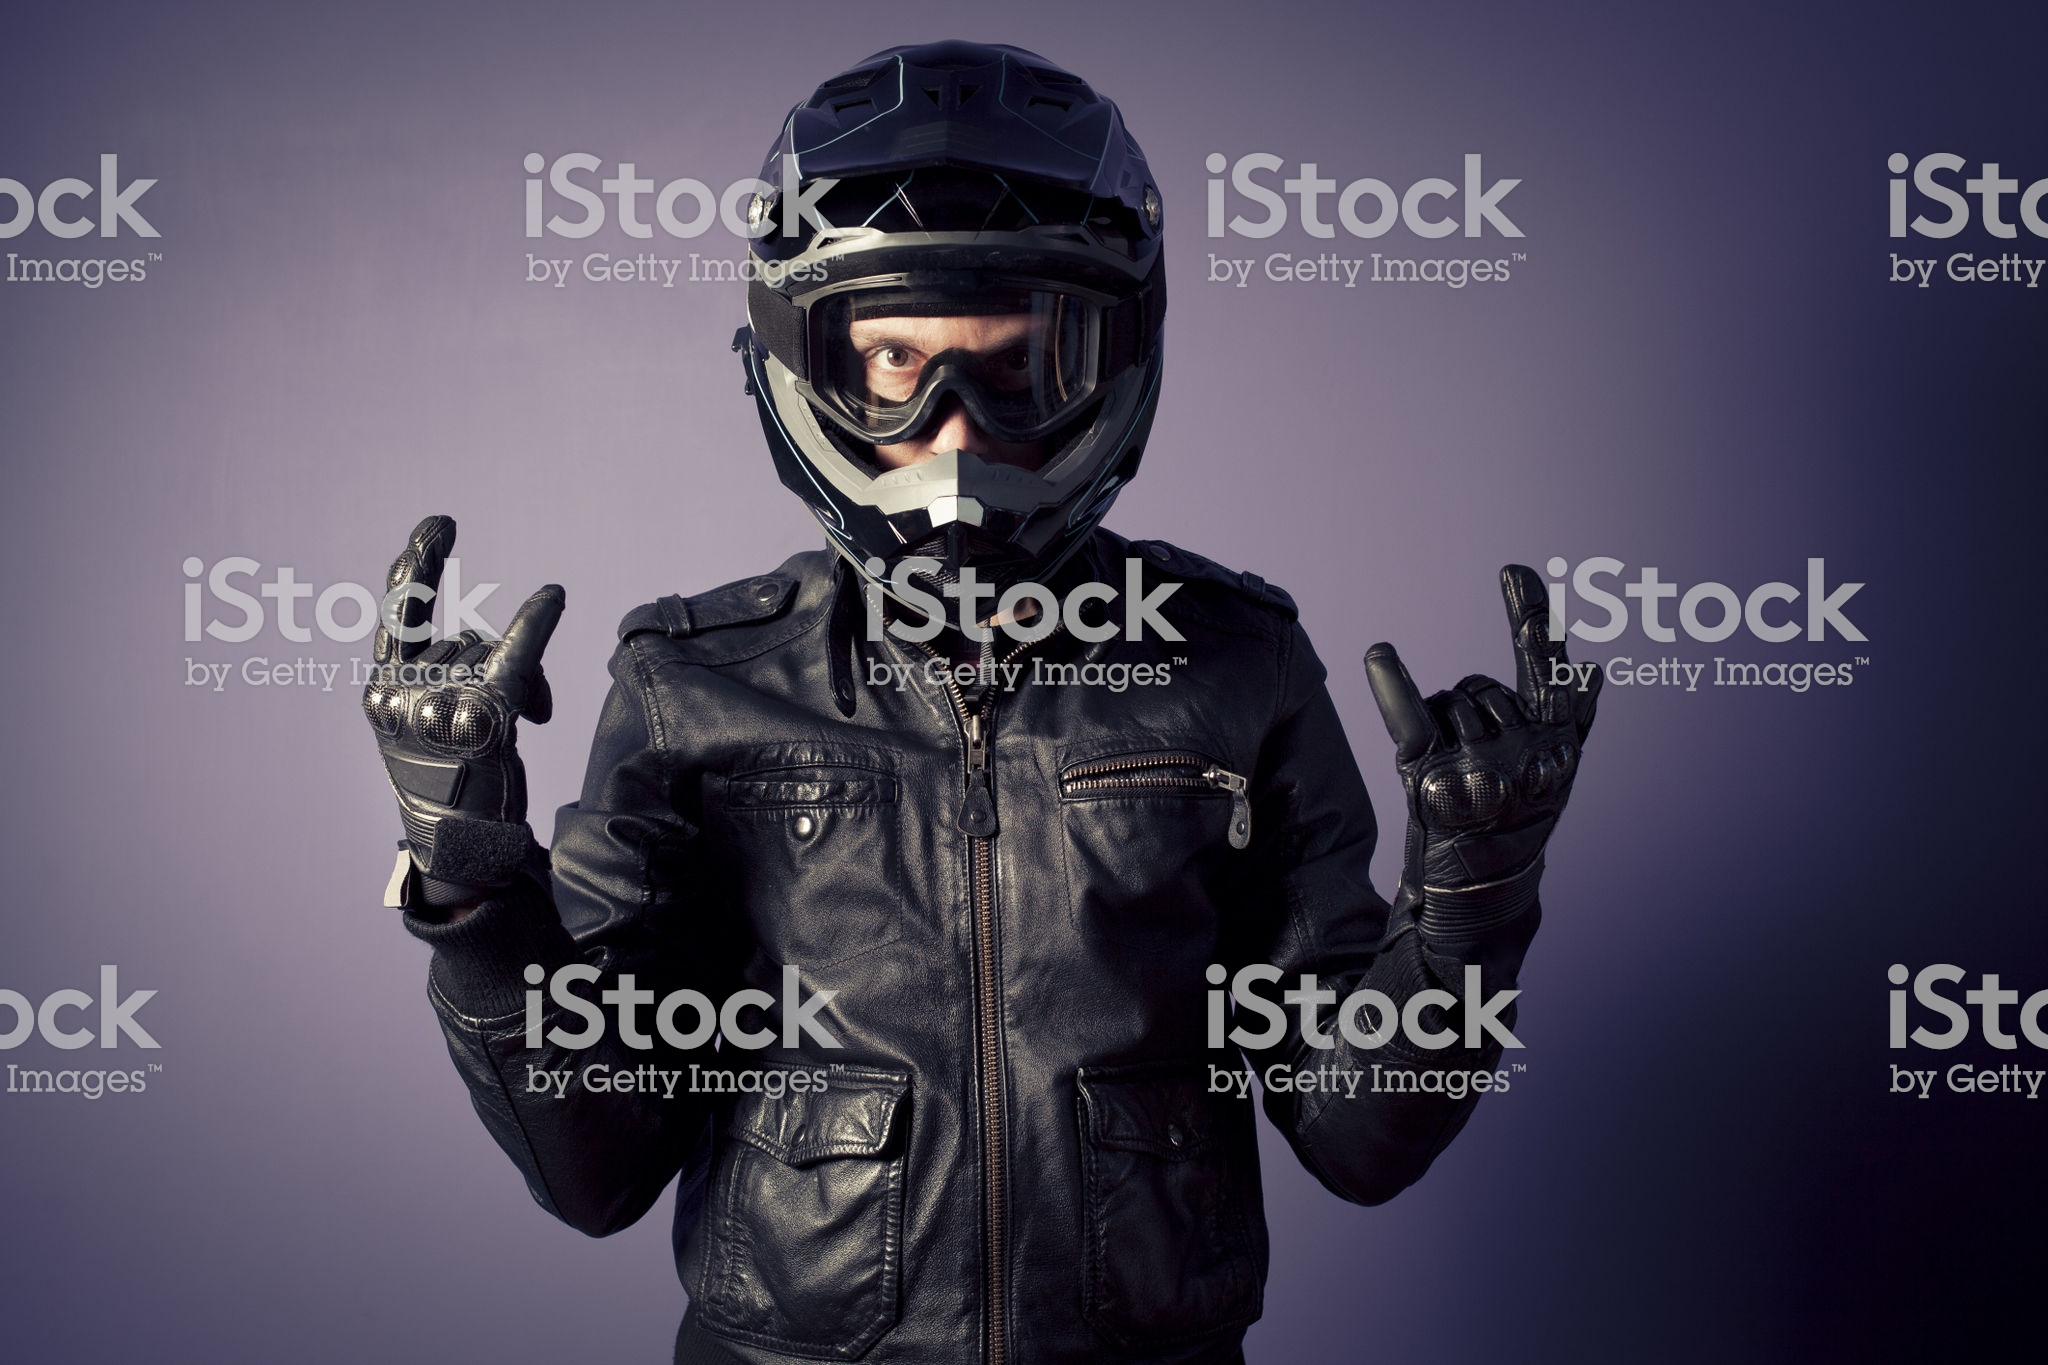helmet: (694, 75, 1169, 625)
